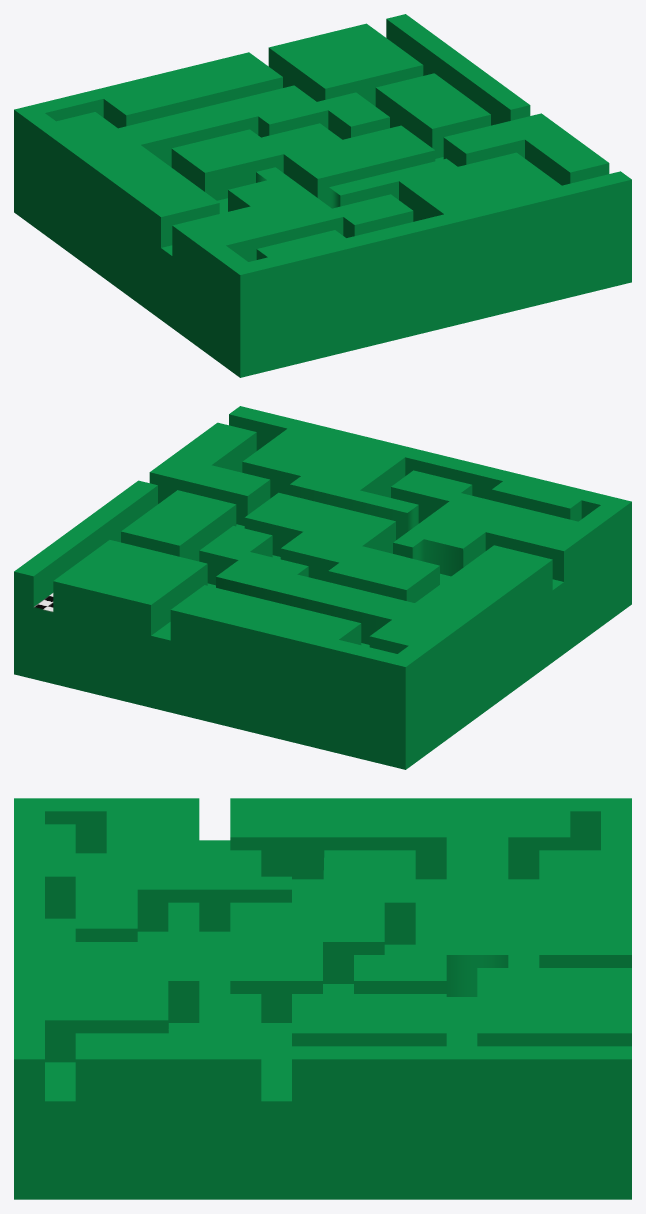
File: maze4.glb
3 views of the same model, one above another, from view 1: azimuth 30°, elevation 25°; view 2: azimuth 150°, elevation 25°; view 3: azimuth 270°, elevation 25° (orthographic). The views are drawn at different scales.
Parts seen in each view (by area): view 1: pCube1; view 2: pCube1; view 3: pCube1.
Part boxes in pixels (x1=…): pCube1: x1=14, y1=14, x2=631, y2=377; pCube1: x1=14, y1=406, x2=631, y2=769; pCube1: x1=14, y1=798, x2=631, y2=1199.
Bounding box in the file's own units: 10 × 2.51 × 10.
1 material, 1 textured.
